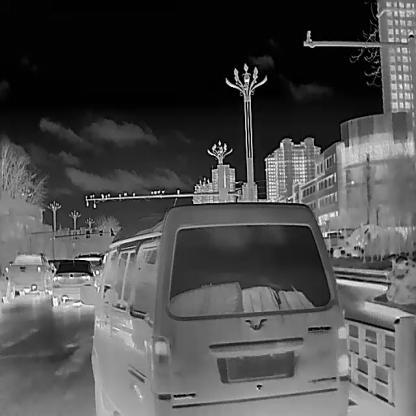car: (90, 201, 347, 415), (5, 252, 54, 298), (52, 259, 99, 306), (0, 263, 14, 303)
